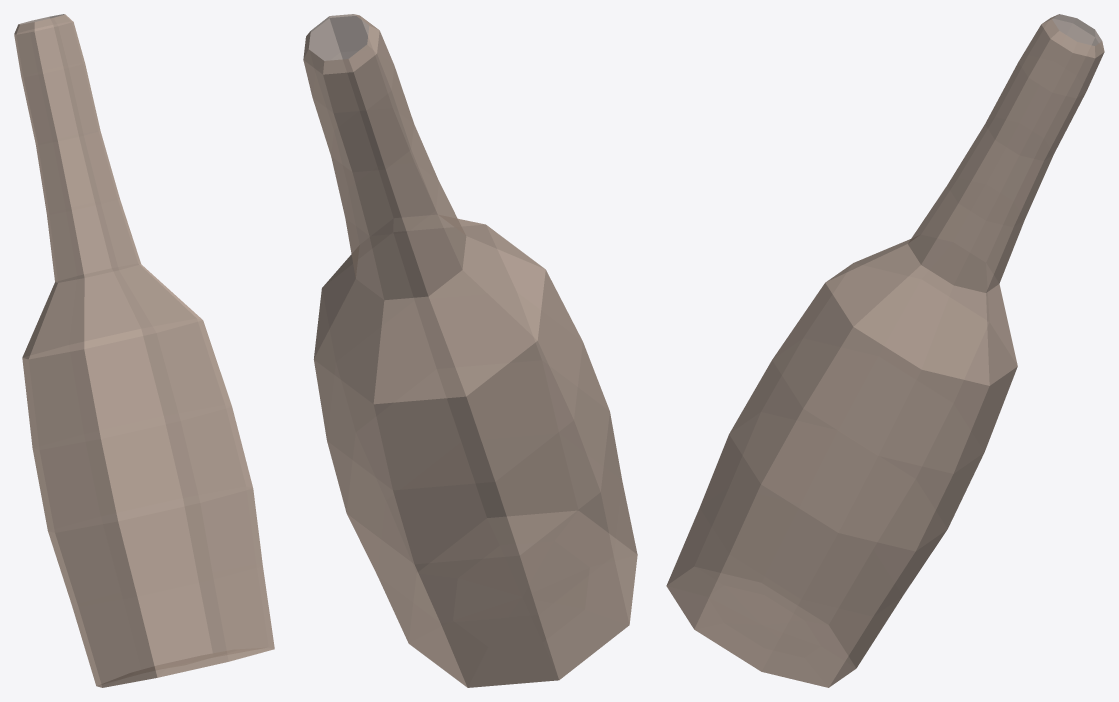
File: bottle.fbx
The picture shows the model from 3 angles, left to right: view 1: azimuth 30°, elevation 25°; view 2: azimuth 150°, elevation 25°; view 3: azimuth 270°, elevation 25°; orthographic projection. The views are drawn at different scales.
Parts seen in each view (by area): view 1: bottle; view 2: bottle; view 3: bottle.
Boxes of the visible parts, left/top/right/bottom form: bottle: left=14, top=14, right=274, bottom=687; bottle: left=303, top=14, right=637, bottom=687; bottle: left=666, top=14, right=1104, bottom=687.
Bounding box in the file's own units: 1.26 × 3.74 × 2.29.
